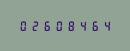eight: (65, 20, 76, 31)
four: (77, 20, 88, 31), (101, 20, 112, 31)
six: (41, 20, 52, 31), (89, 20, 100, 31)
two: (29, 20, 40, 31)
zero: (17, 20, 28, 31), (53, 20, 64, 31)
